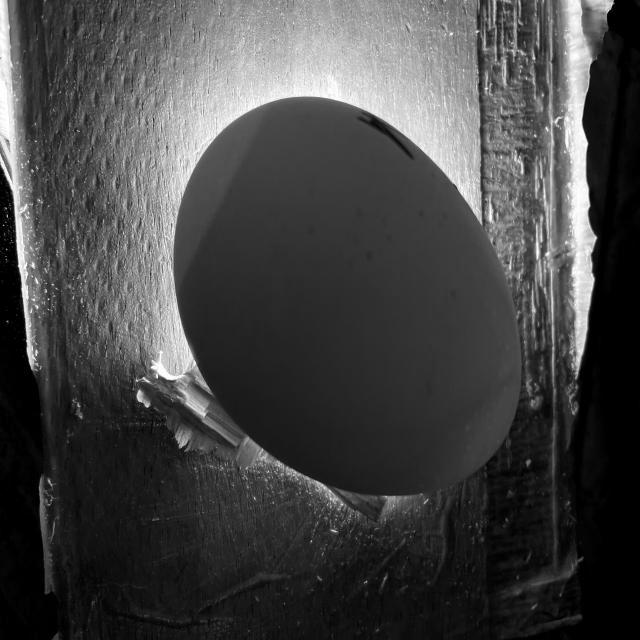telur: (170, 85, 530, 497)
